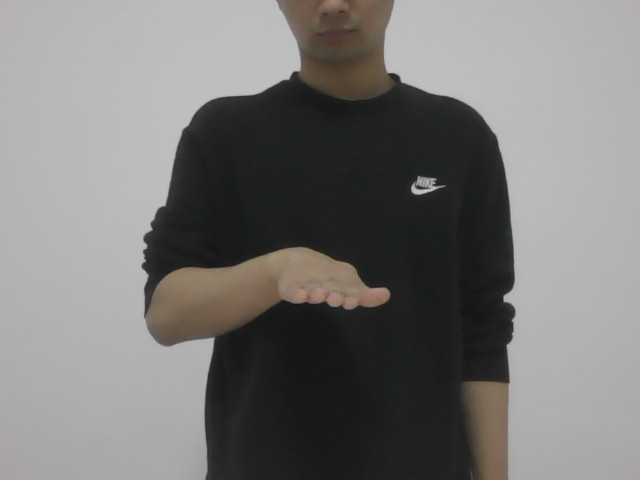slow: (257, 237, 390, 322)
